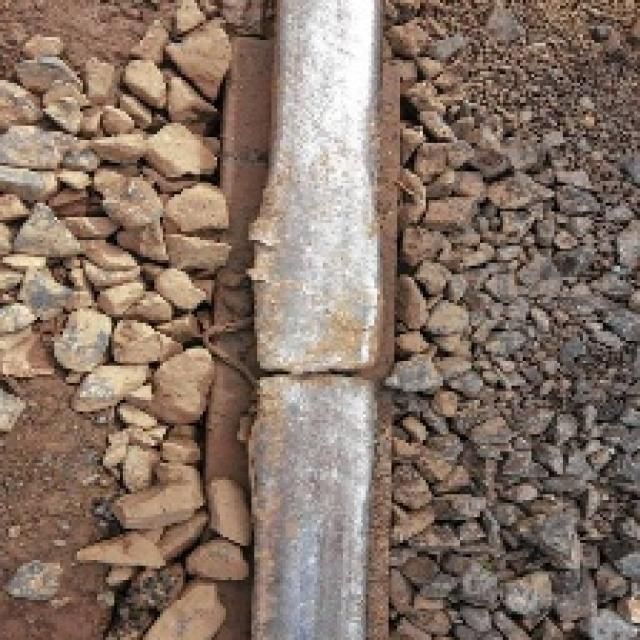Defective Joint: (113, 21, 551, 640)
